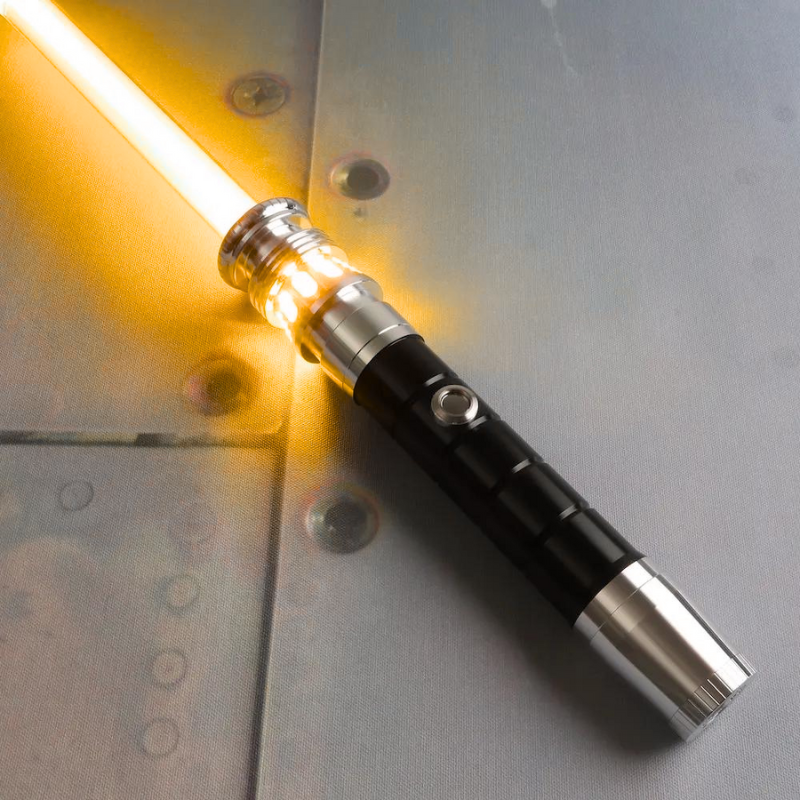lightsaber: (12, 0, 701, 694)
